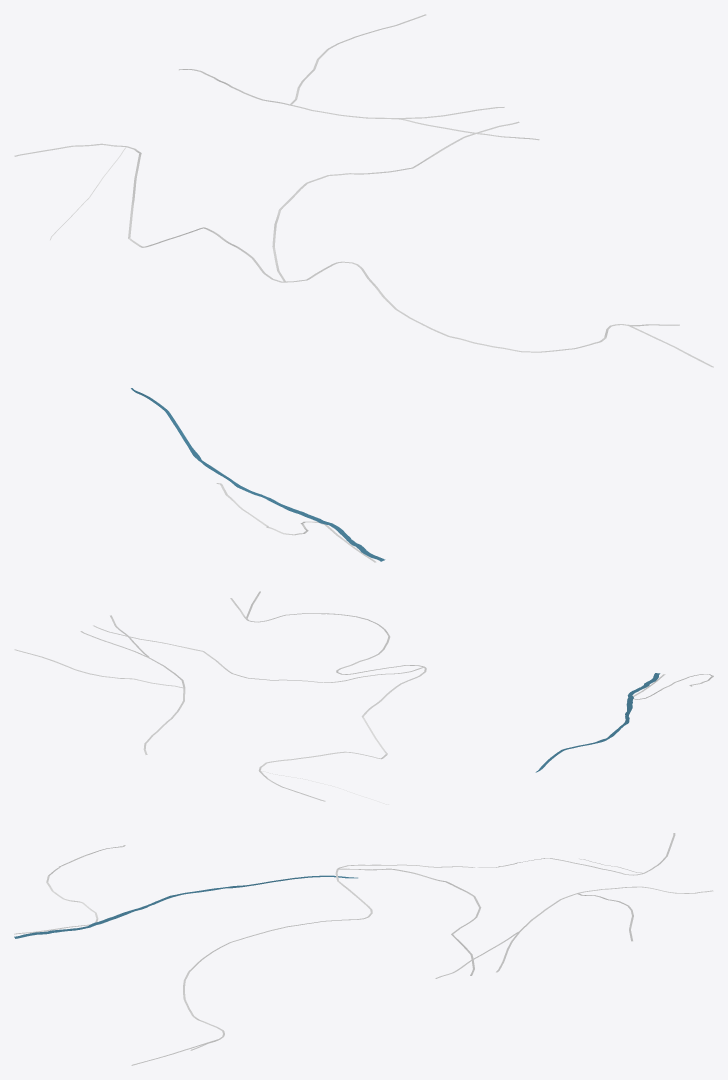
Rendered from objekty.glb.
The picture shows the model from 3 angles, top to bottom: view 1: azimuth 30°, elevation 25°; view 2: azimuth 150°, elevation 25°; view 3: azimuth 270°, elevation 25°; orthographic projection. The views are drawn at different scales.
Visible parts, largest first — view 1: Cesty_07_00, Voda_07_00; view 2: Cesty_07_00, Voda_07_00; view 3: Cesty_07_00, Voda_07_00.
Boxes of the visible parts, x1,y1,x2,y2 form: Cesty_07_00: (14,14,713,562); Voda_07_00: (131,388,385,561); Cesty_07_00: (14,591,713,804); Voda_07_00: (535,673,660,772); Cesty_07_00: (14,833,713,1065); Voda_07_00: (14,875,357,938).
Size of the model in its own units: 726 by 262 by 1004.
